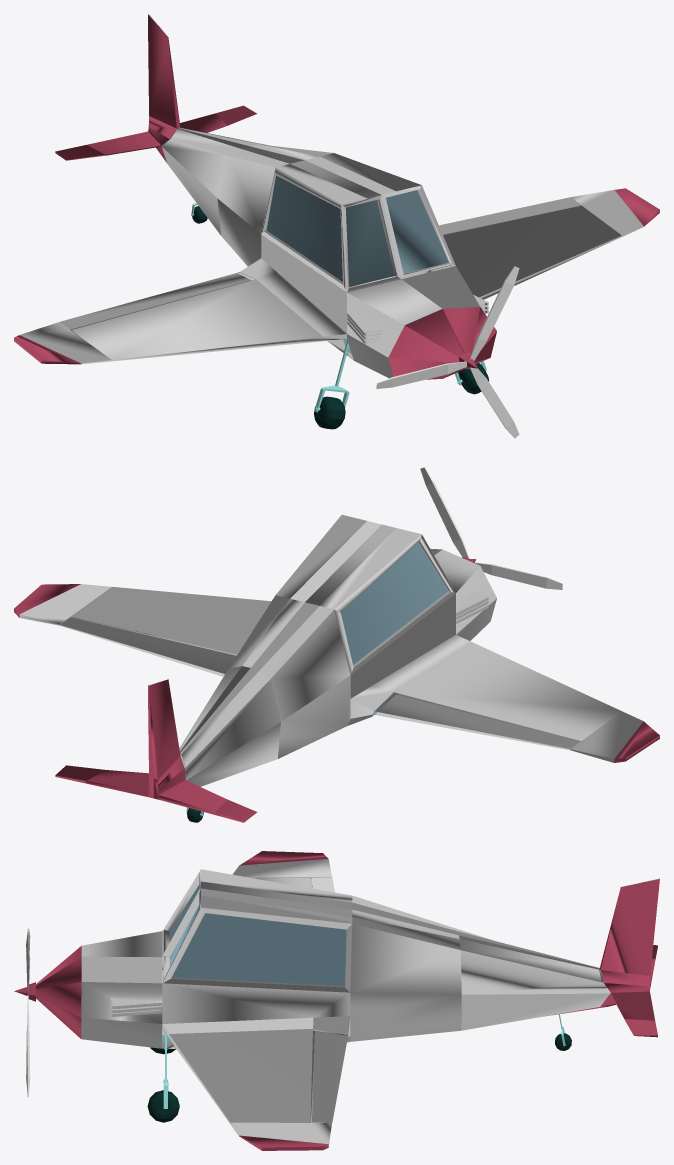
3 renders of one model, top to bottom at view 1: azimuth 30°, elevation 25°; view 2: azimuth 150°, elevation 25°; view 3: azimuth 270°, elevation 25°, orthographic.
Visible parts, largest first — view 1: Cube_3, Cube_1, Cube_0, Cube_2, Wheel_4; view 2: Cube_3, Cube_1, Cube_0; view 3: Cube_3, Wheel_2.
Boxes of the visible parts, x1,y1,x2,y2 form: Cube_3: (14, 14, 659, 379); Cube_1: (469, 266, 519, 360); Cube_0: (376, 361, 466, 388); Cube_2: (470, 367, 519, 438); Wheel_4: (314, 396, 345, 429); Cube_3: (14, 515, 659, 822); Cube_1: (420, 467, 469, 558); Cube_0: (474, 562, 562, 589); Cube_3: (36, 851, 659, 1150); Wheel_2: (147, 1090, 179, 1122).
Bounding box in the file's own units: 869 × 285 × 799.
